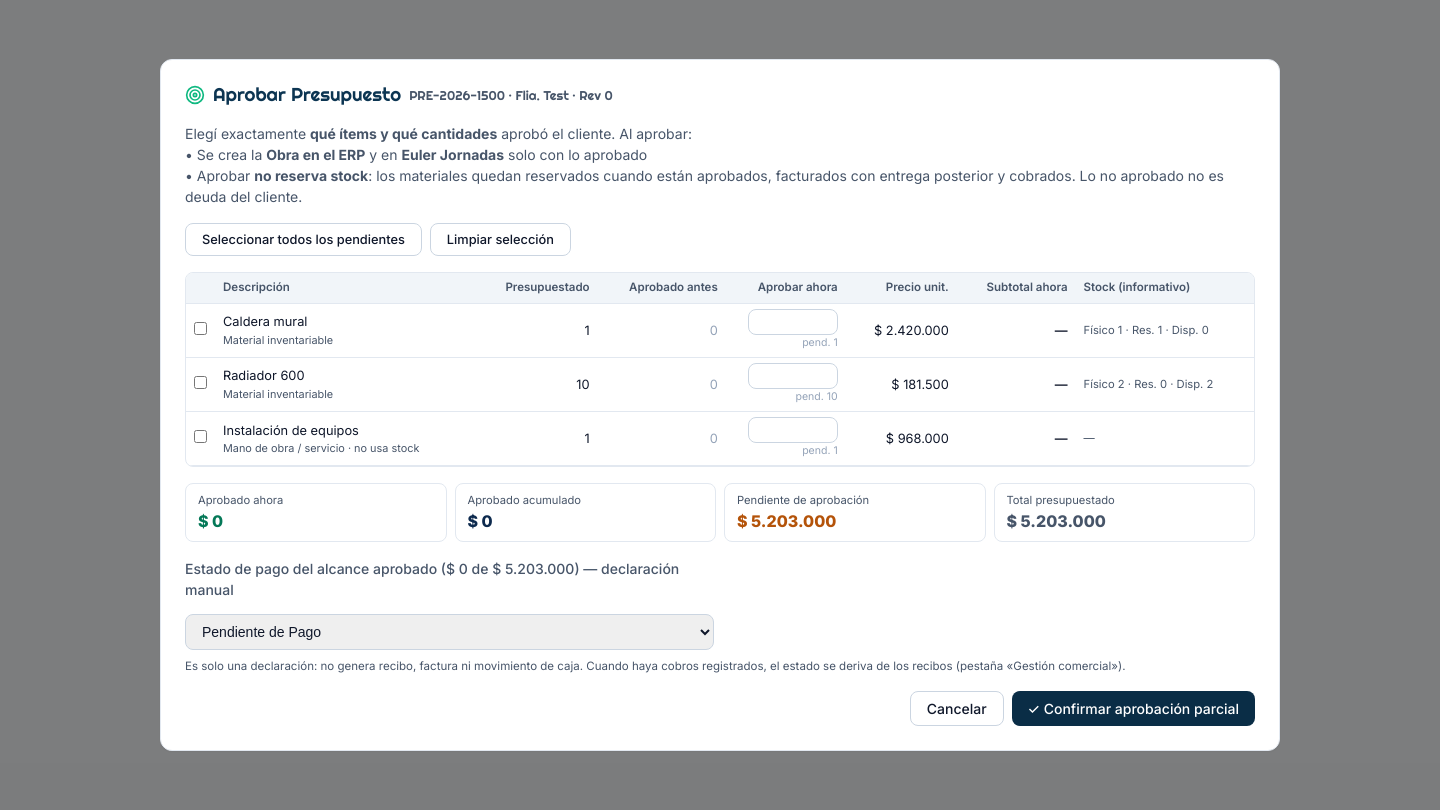
Test: Pop-up «Aprobar Presupuesto» ampliado › informa el faltante de stock para lo aprobado (sin fingir disponibilidad)
Check: the text "Físico 1 · Res. 1 · Disp. 0" is shown, box [1076,303,1254,357]
Type "1" into the number field in the row of "Caldera mural" at (793,322), box [748,309,838,335]
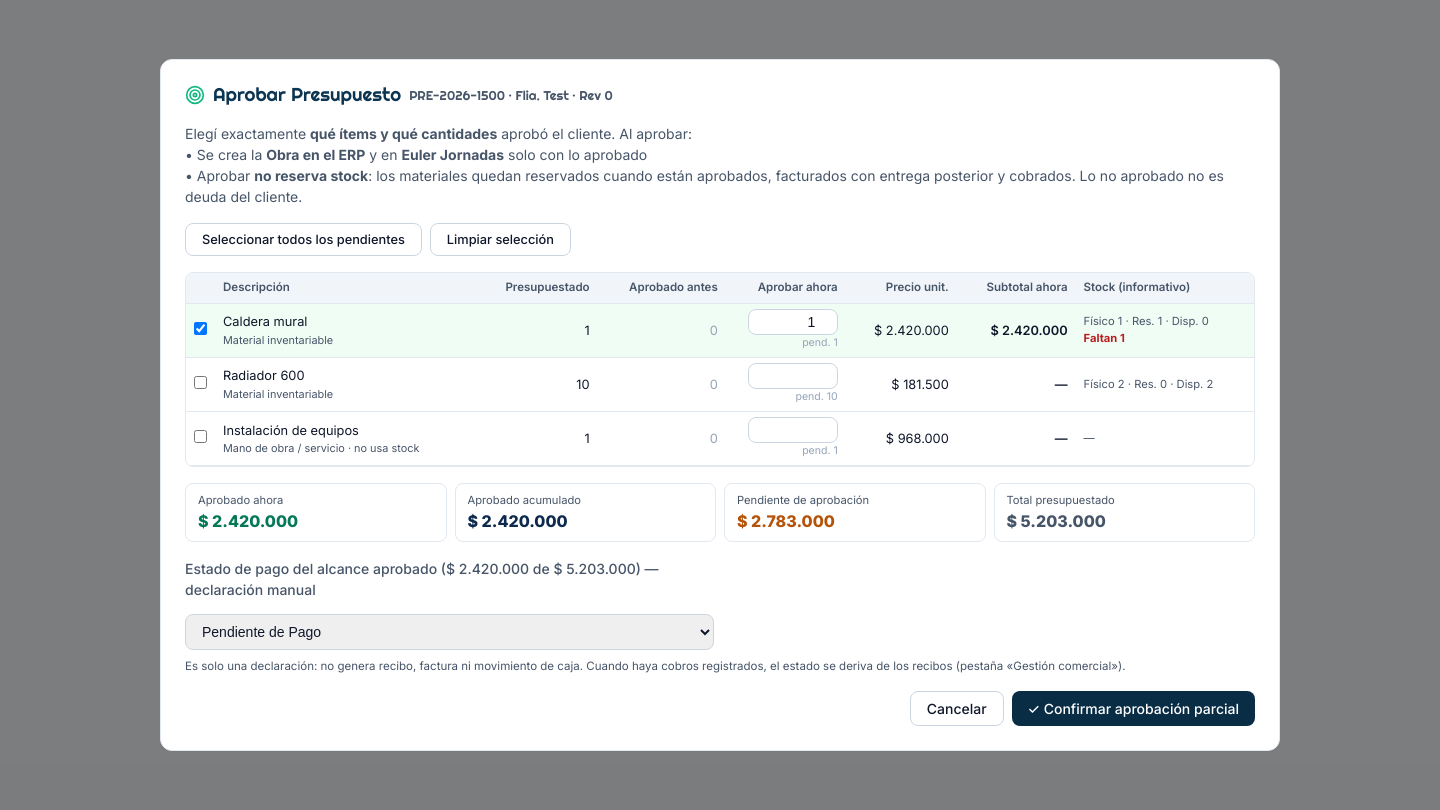
Check: the text "Faltan 1" is shown, box [1084,331,1125,345]
